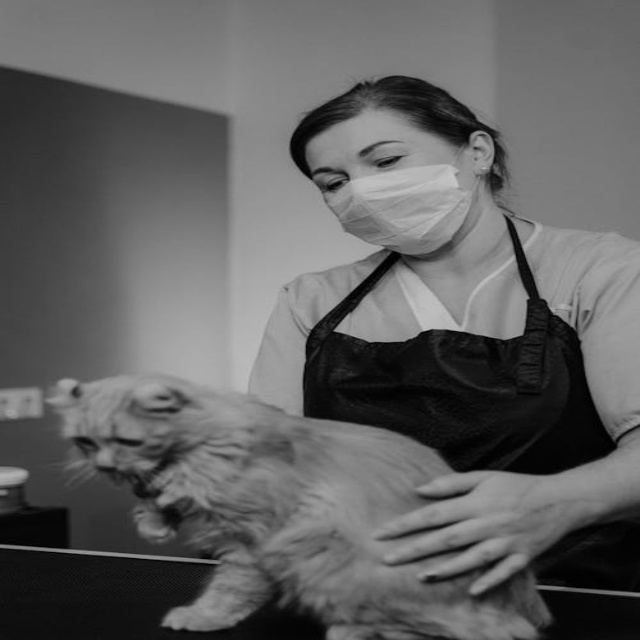Mascara: (323, 147, 476, 252)
Sin_gafas: (305, 139, 417, 193)
Sin_guantes: (365, 461, 618, 601)
